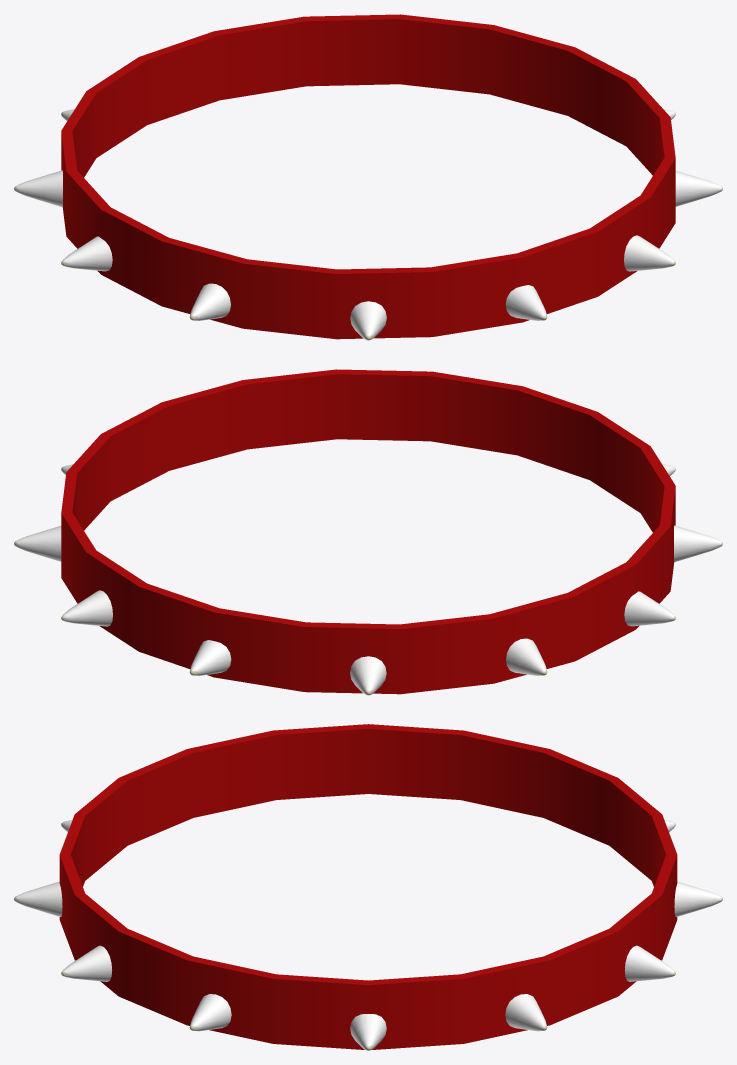
The model's file is xianquan.fbx.
The picture shows the model from 3 angles, top to bottom: view 1: azimuth 30°, elevation 25°; view 2: azimuth 150°, elevation 25°; view 3: azimuth 270°, elevation 25°; orthographic projection.
Visible parts, largest first — view 1: pCube24; view 2: pCube24; view 3: pCube24.
Part boxes in pixels (x1,y1,x2,y2): pCube24: [14, 14, 722, 340]; pCube24: [14, 369, 722, 695]; pCube24: [14, 724, 722, 1050].
Bounding box in the file's own units: 16.85 × 1.71 × 16.85.
